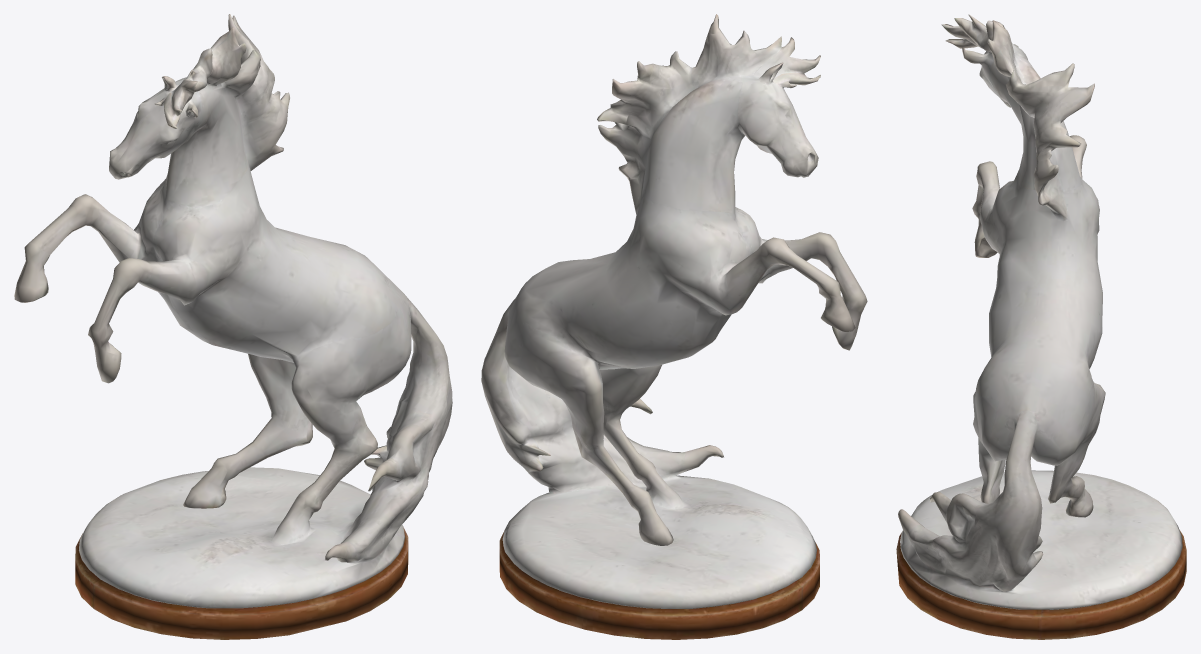
File: horse_statue_01.glb
3 views of the same model, side by side, from view 1: azimuth 30°, elevation 25°; view 2: azimuth 150°, elevation 25°; view 3: azimuth 270°, elevation 25° (orthographic). The views are drawn at different scales.
Parts seen in each view (by area): view 1: horse_statue_01; view 2: horse_statue_01; view 3: horse_statue_01.
Boxes of the visible parts, <box> form: horse_statue_01: <box>14,14,452,639</box>; horse_statue_01: <box>481,14,867,639</box>; horse_statue_01: <box>896,14,1186,639</box>.
Size of the model in its own units: 0.1638 by 0.22 by 0.1078.
1 material, 1 textured.
